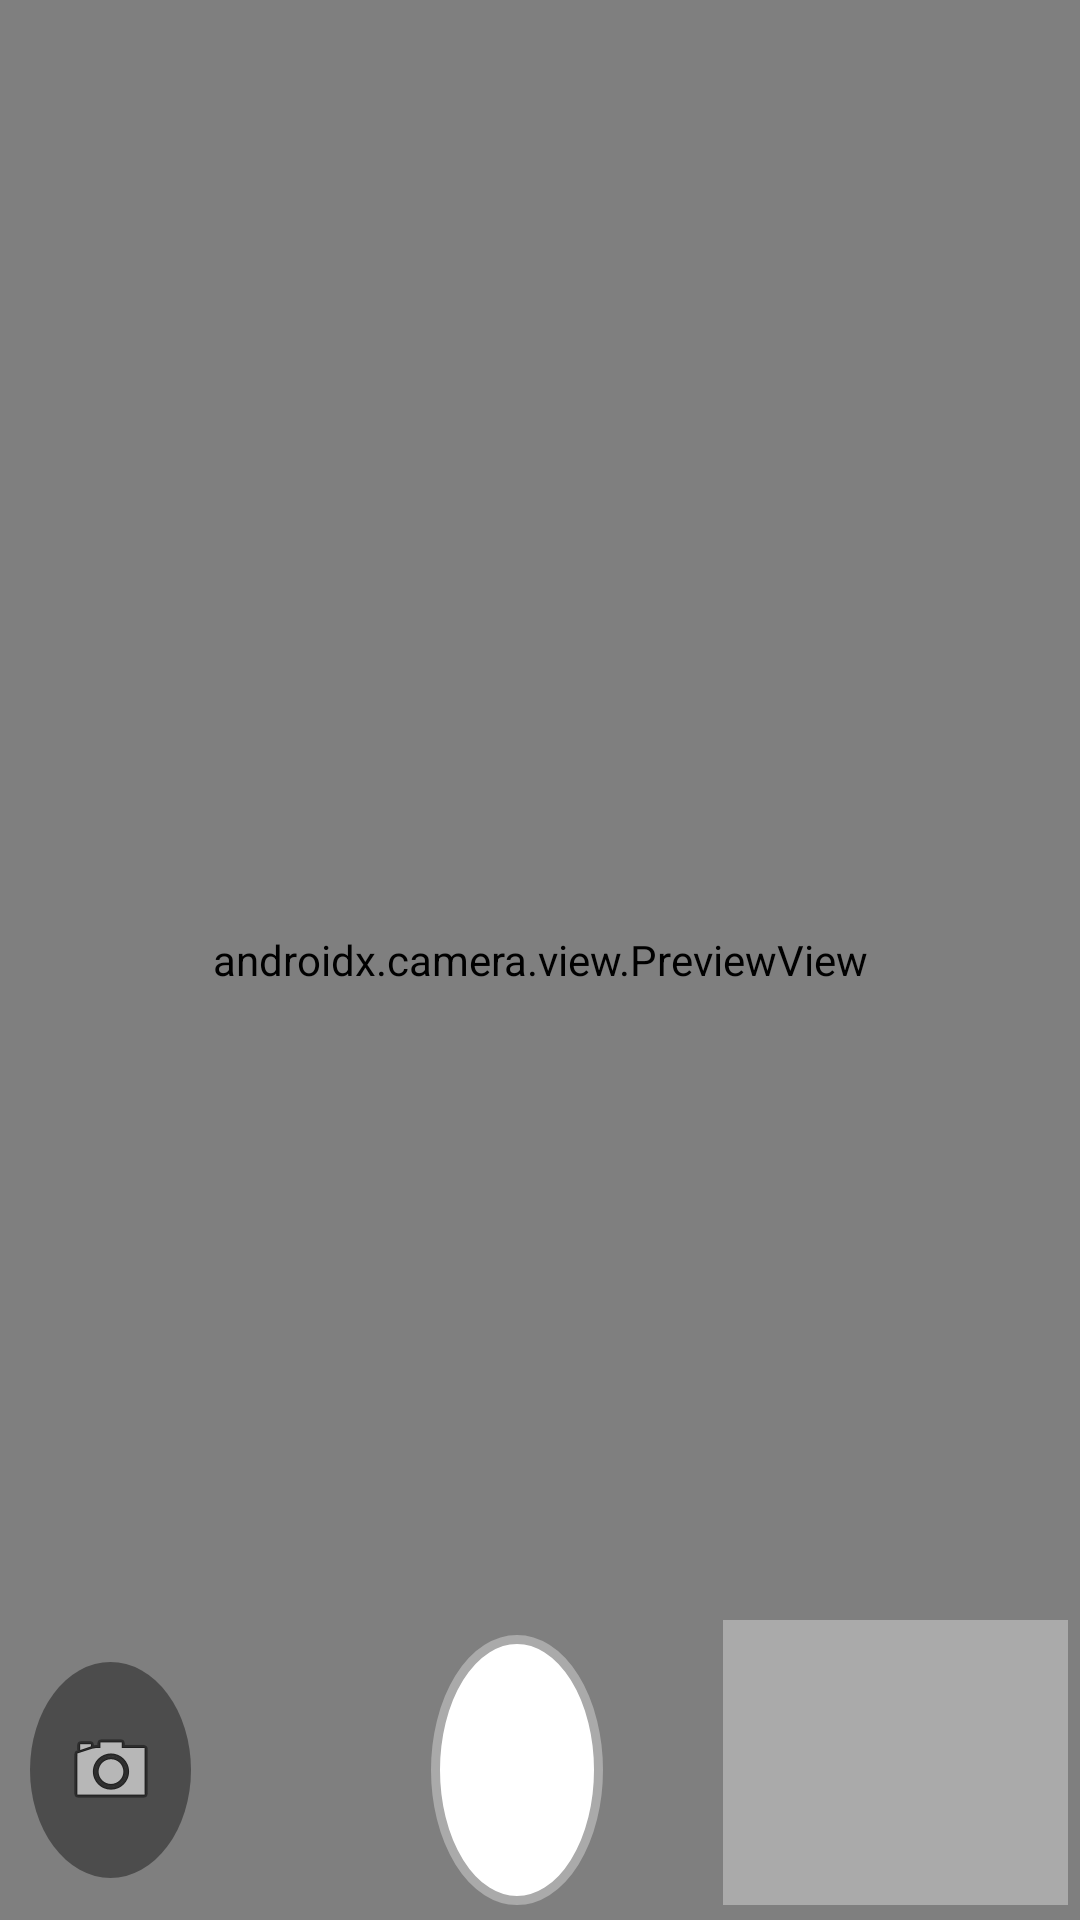

Locate icon controls on the screen. Image size 1080px x 1920px, boxes as bbox(x1, y1, x2, y2).
Đổi Camera: bbox(30, 1662, 191, 1878)
